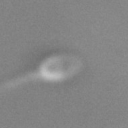normal: (1, 69, 43, 92)
